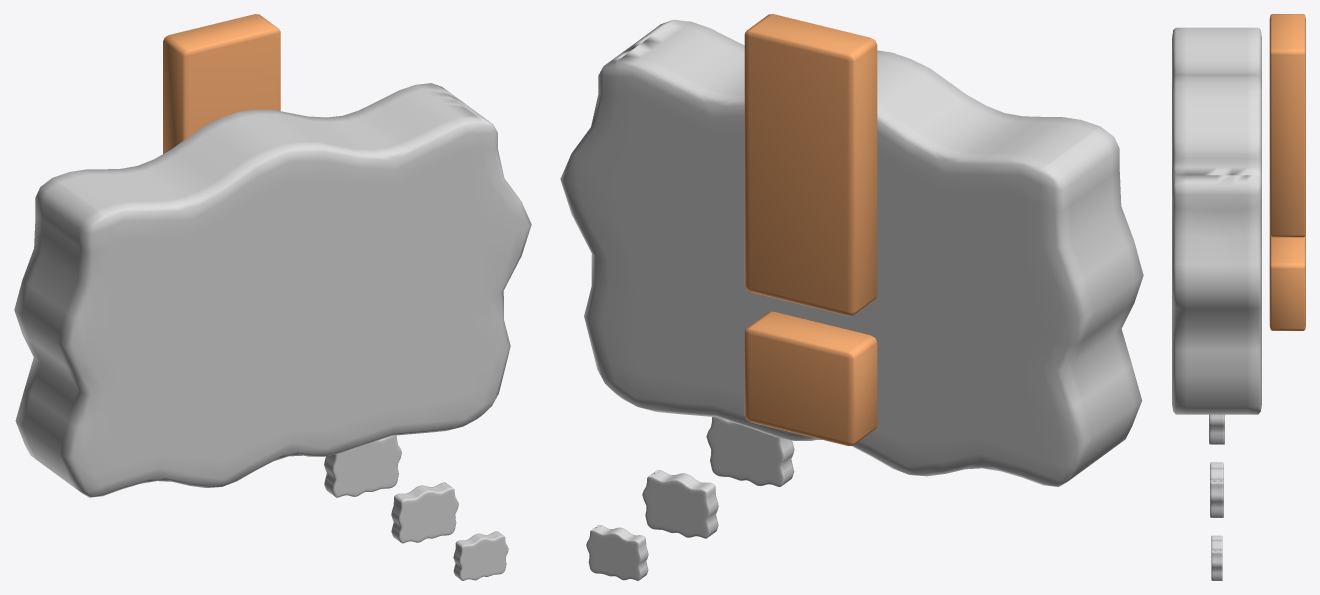
The model's file is gelb.fbx.
3 renders of one model, left to right at view 1: azimuth 30°, elevation 25°; view 2: azimuth 150°, elevation 25°; view 3: azimuth 270°, elevation 25°, orthographic. The views are drawn at different scales.
Parts seen in each view (by area): view 1: wolke, ausrufezeichengelb; view 2: wolke, ausrufezeichengelb; view 3: wolke, ausrufezeichengelb.
Part boxes in pixels (x1,y1,x2,y2): wolke: (14,83,531,580); ausrufezeichengelb: (163,14,280,153); wolke: (560,19,1143,580); ausrufezeichengelb: (744,14,877,446); wolke: (1172,27,1261,580); ausrufezeichengelb: (1269,14,1305,330).
Bounding box in the file's own units: 353 × 409 × 108.
